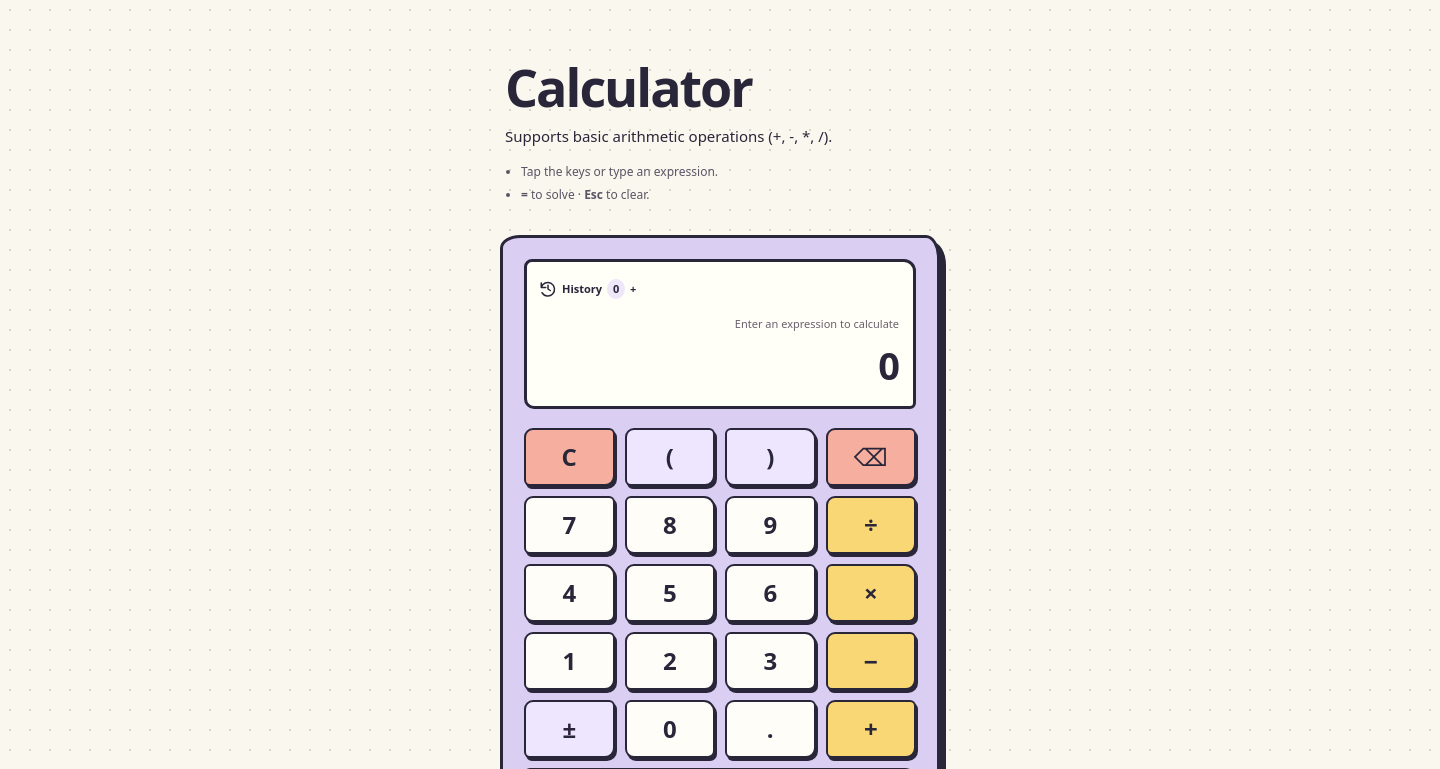
Test: calculator acceptance criteria › toggles the current number positive and negative and supports keyboard sign control
The width and height of the screenshot is (1440, 769).
Type keys "2"
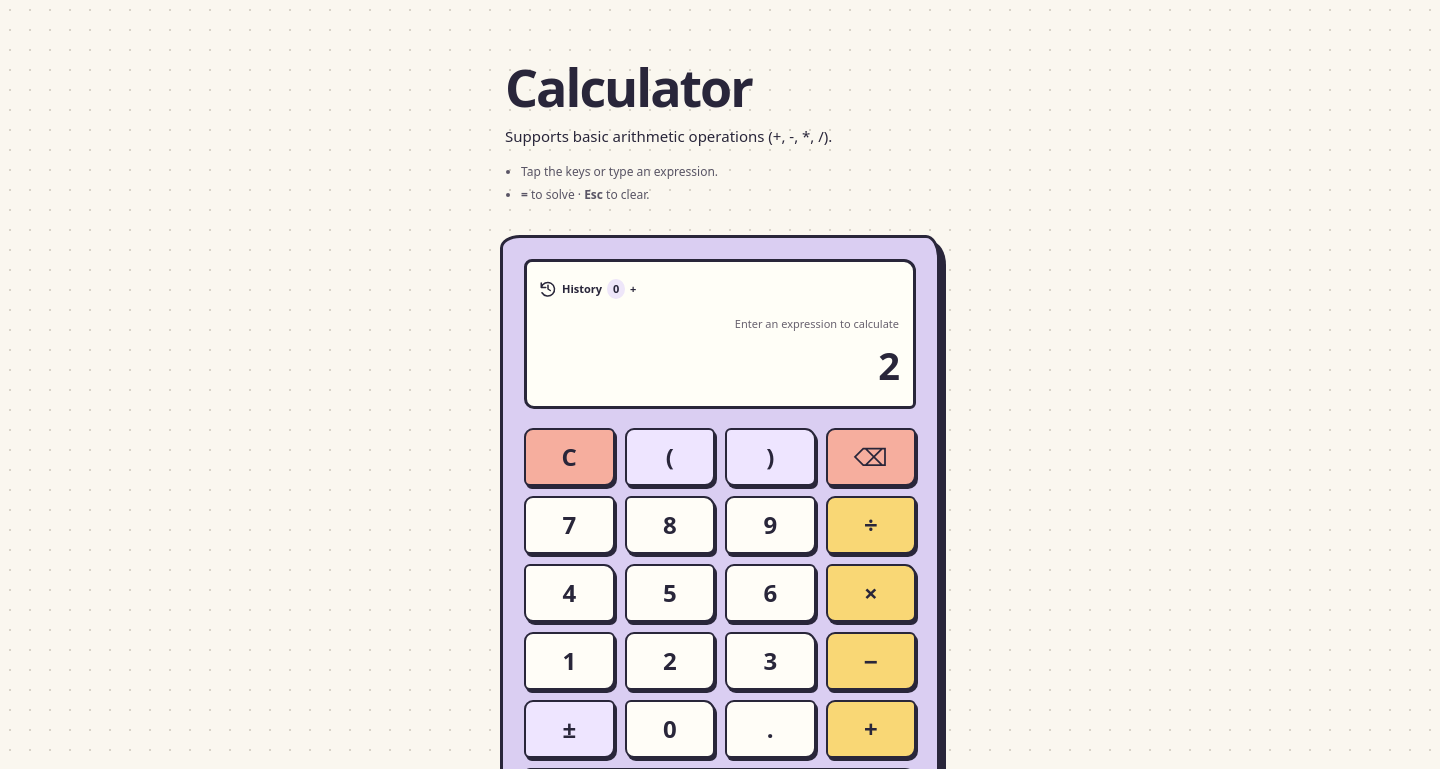
Click the button named "Toggle sign" at [569, 729], box [524,700,614,758]
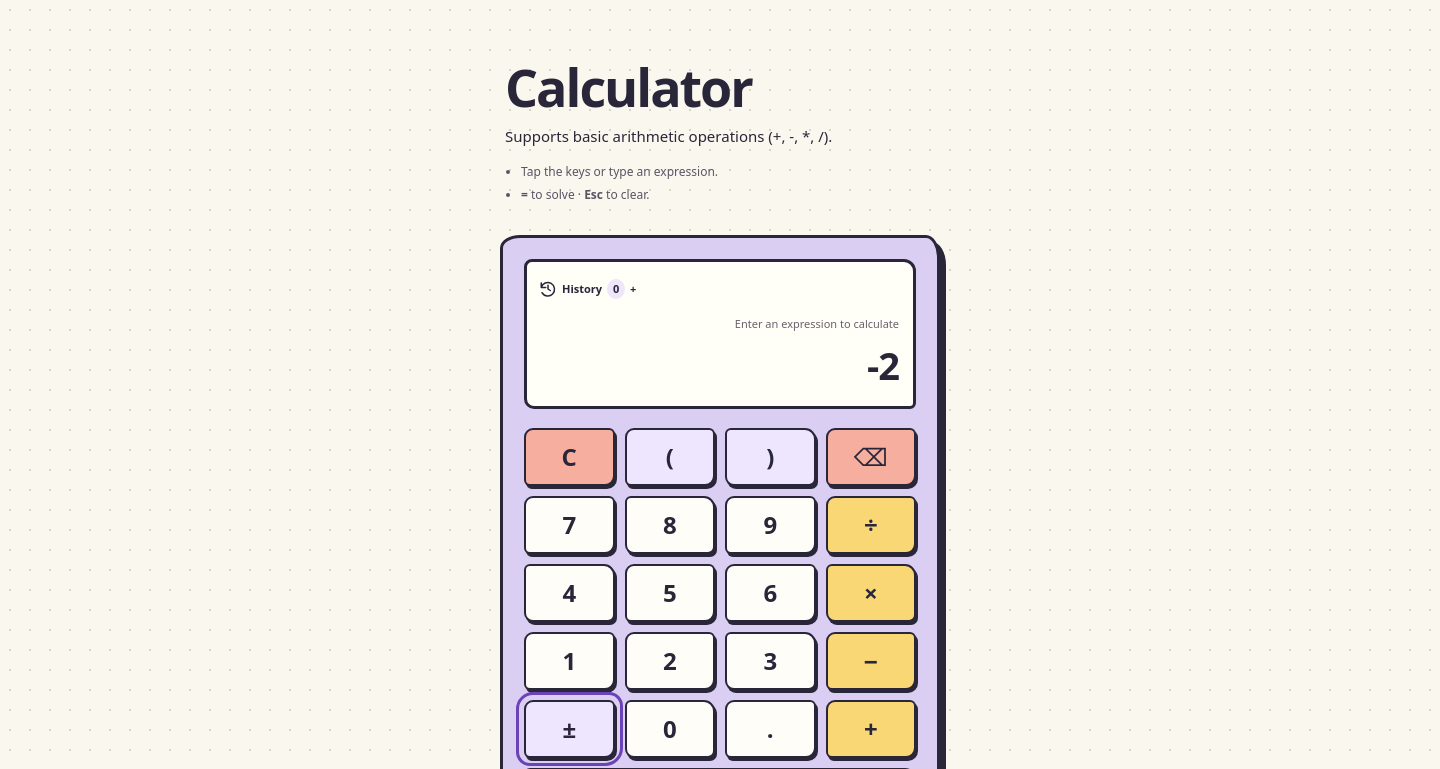
Expected: the message reads "-2", [867,339,899,391]
Click the button named "Toggle sign" at [569, 729], box [524,700,614,758]
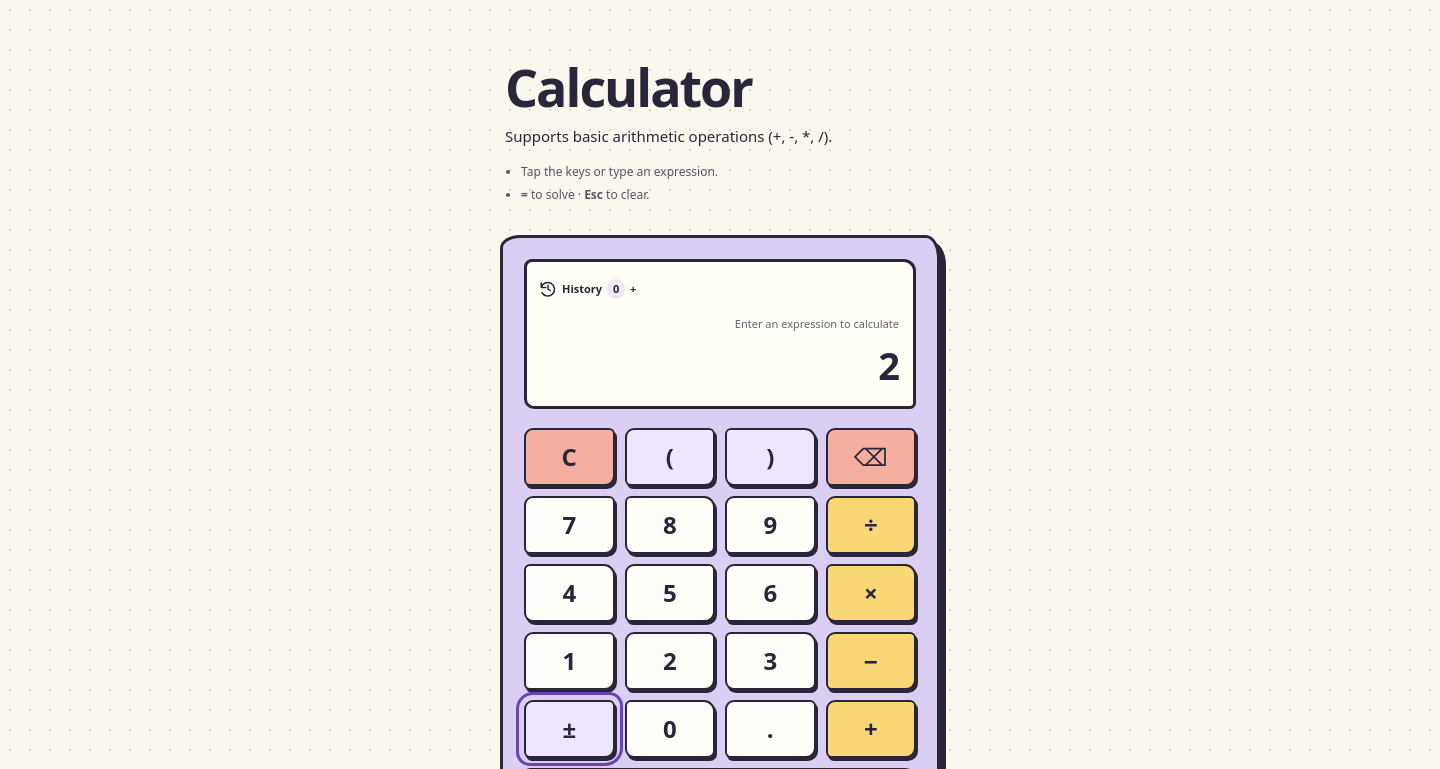
Expected: the message reads "2", [878,339,899,391]
Type keys "{F9}="
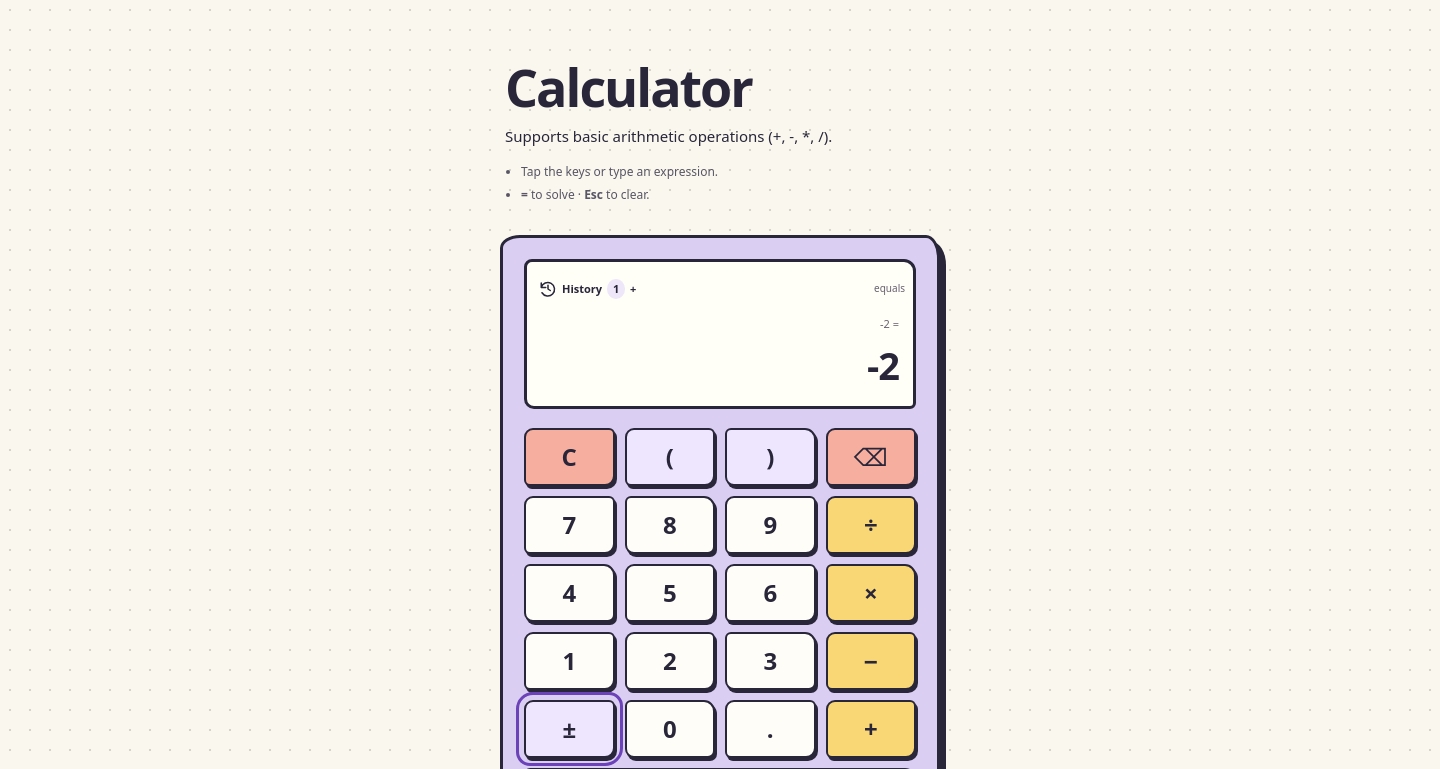
Expected: the message named "Result" is shown, [867,339,899,391]
